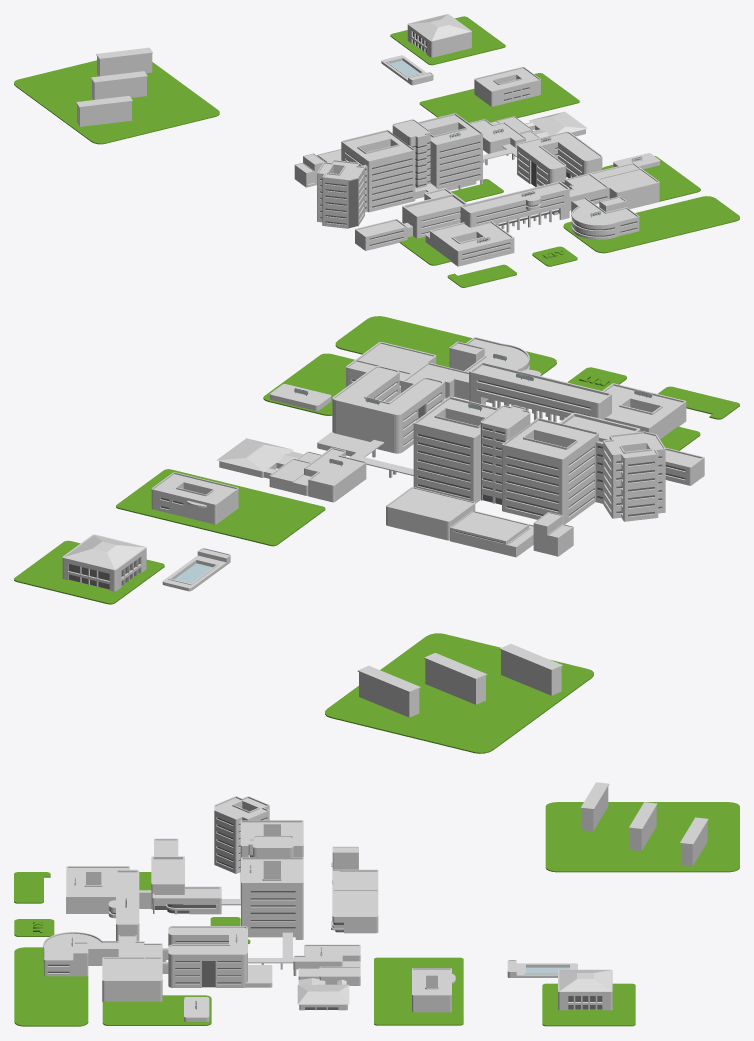
The model's file is kyutech_map.glb.
3 views of the same model, one above another, from view 1: azimuth 30°, elevation 25°; view 2: azimuth 150°, elevation 25°; view 3: azimuth 270°, elevation 25° (orthographic). The views are drawn at different scales.
Parts seen in each view (by area): view 1: 平面.013, 研究棟西, 平面.011, 研究棟東, 講義棟, 平面.016, 総合研究棟, 共通教育研究棟, 研究管理棟, 図書館, 500人講義室, 課外活動共用施設 (+19 smaller); view 2: 平面.013, 研究棟西, 研究棟東, 講義棟, 平面.016, 総合研究棟, 共通教育研究棟, 平面.011, 課外活動共用施設, マイクロ化総合センター, 平面.018, 研究管理棟 (+22 smaller); view 3: 平面.013, 研究棟東, 講義棟, 平面.011, 平面.016, 500人講義室, 平面.018, 図書館, 総合研究棟, 平面.012, 研究管理棟, マイクロ化総合センター (+23 smaller).
Part boxes in pixels (left/top/right/bottom): 平面.013: left=14, top=60, right=219, bottom=144; 研究棟西: left=341, top=129, right=415, bottom=212; 平面.011: left=563, top=196, right=739, bottom=253; 研究棟東: left=418, top=113, right=482, bottom=190; 講義棟: left=517, top=131, right=602, bottom=186; 平面.016: left=419, top=73, right=579, bottom=122; 総合研究棟: left=317, top=160, right=364, bottom=228; 共通教育研究棟: left=460, top=181, right=569, bottom=227; 研究管理棟: left=425, top=221, right=514, bottom=266; 図書館: left=571, top=196, right=639, bottom=239; 500人講義室: left=590, top=163, right=659, bottom=208; 課外活動共用施設: left=474, top=67, right=540, bottom=106; 平面.013: left=325, top=633, right=593, bottom=753; 研究棟西: left=502, top=418, right=598, bottom=524; 研究棟東: left=413, top=396, right=498, bottom=503; 講義棟: left=332, top=366, right=443, bottom=453; 平面.016: left=116, top=469, right=325, bottom=546; 総合研究棟: left=603, top=431, right=665, bottom=521; 共通教育研究棟: left=469, top=362, right=611, bottom=419; 平面.011: left=335, top=316, right=556, bottom=375; 課外活動共用施設: left=151, top=472, right=238, bottom=524; マイクロ化総合センター: left=386, top=487, right=475, bottom=540; 平面.018: left=14, top=540, right=164, bottom=604; 研究管理棟: left=602, top=383, right=686, bottom=439; 平面.013: left=545, top=802, right=739, bottom=872; 研究棟東: left=241, top=857, right=303, bottom=939; 講義棟: left=168, top=926, right=247, bottom=987; 平面.011: left=14, top=947, right=88, bottom=1026; 平面.016: left=374, top=957, right=463, bottom=1025; 500人講義室: left=102, top=957, right=162, bottom=1001; 平面.018: left=542, top=983, right=635, bottom=1026; 図書館: left=43, top=932, right=118, bottom=976; 総合研究棟: left=214, top=796, right=269, bottom=873; 平面.012: left=102, top=995, right=211, bottom=1025; 研究管理棟: left=66, top=866, right=129, bottom=913; マイクロ化総合センター: left=331, top=890, right=378, bottom=933.
Bounding box in the file's own units: 269 × 37.5 × 369.
